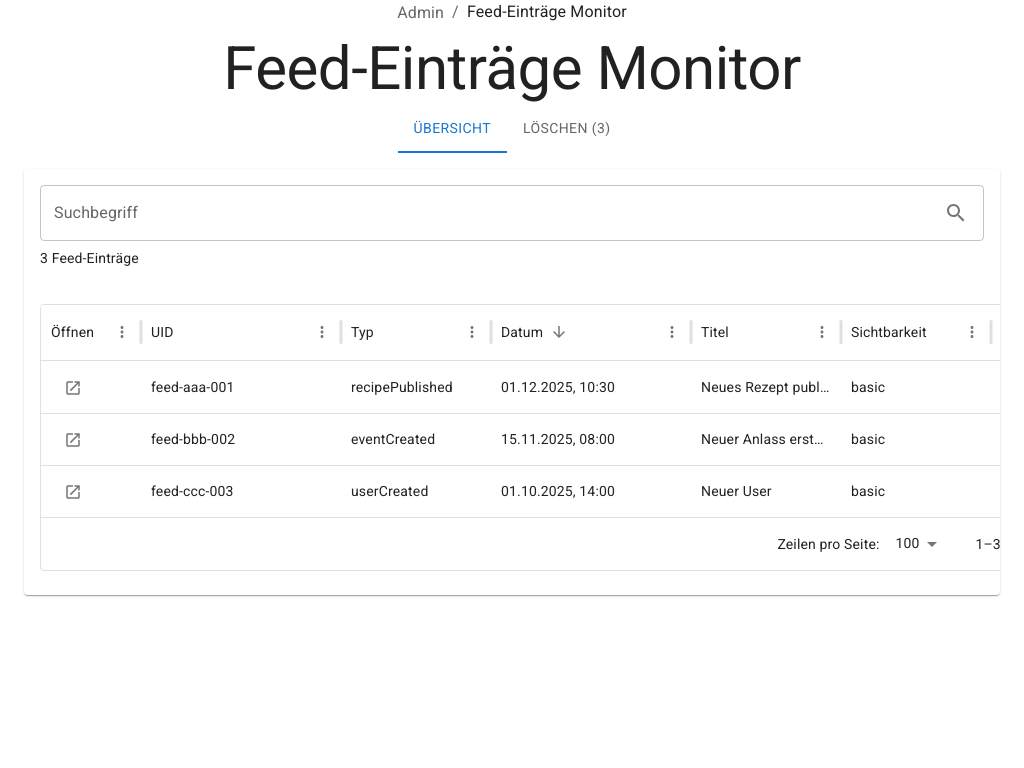
16 – Fehler beim Einzellöschen zeigt Fehlermeldung
The image size is (1024, 768).
// Dialog öffnen und löschen
Click the button named "open feed" next to "feed-aaa-001": (73, 388) [59,374,87,402]
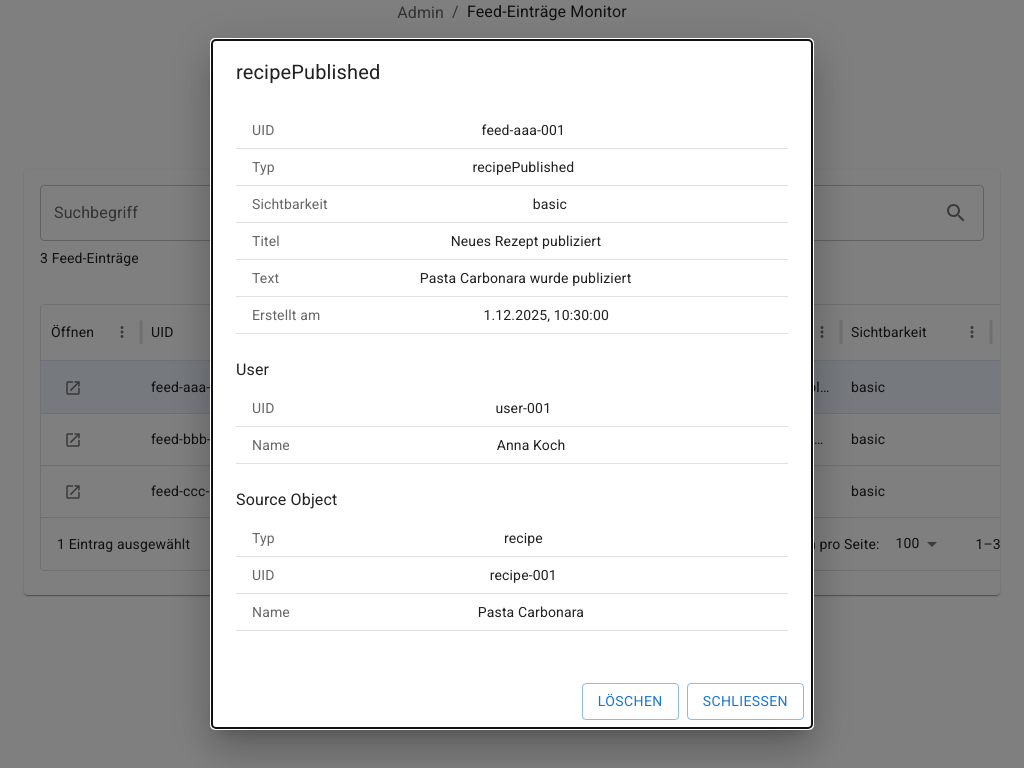
Click the button "Löschen": (630, 702) [582,683,679,720]
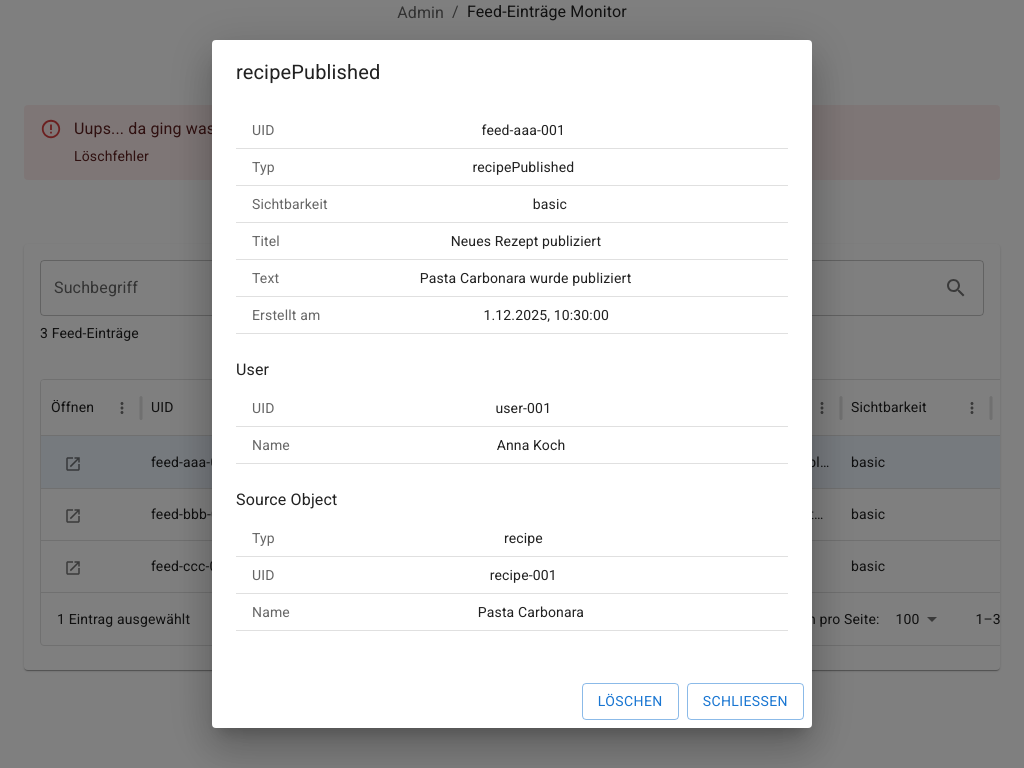
Now the text "Uups... da ging was schief." is shown, box [74,117,268,141]
